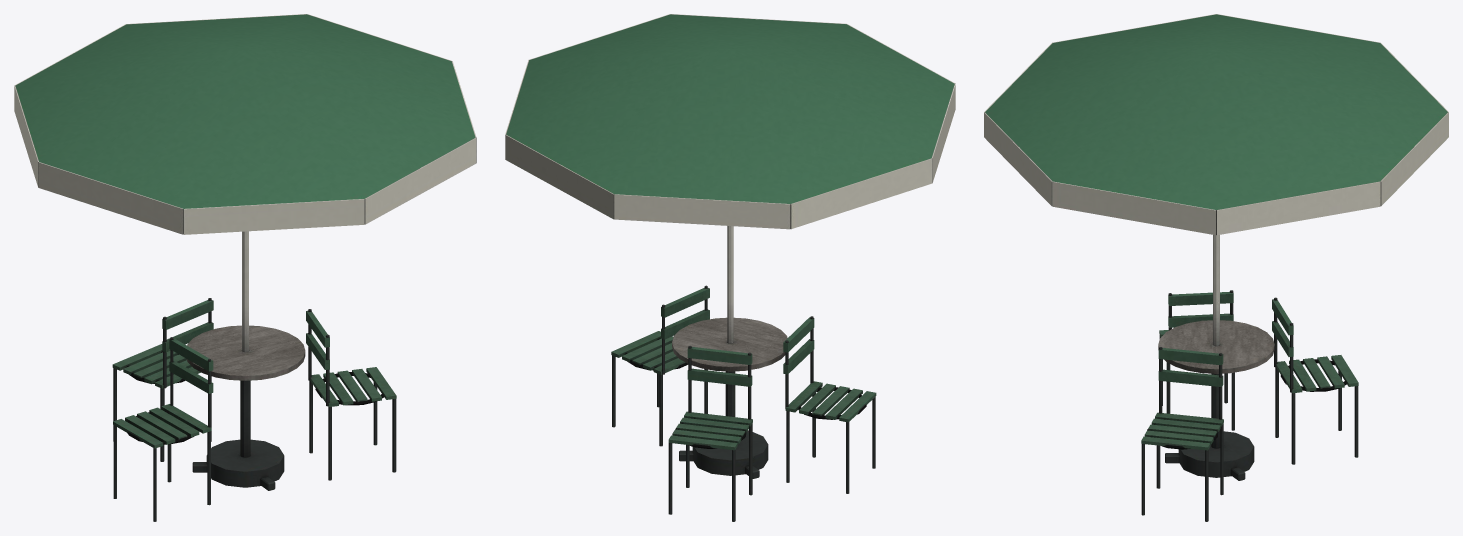
Rendered from cafe_set_green.glb.
3 renders of one model, left to right at view 1: azimuth 30°, elevation 25°; view 2: azimuth 150°, elevation 25°; view 3: azimuth 270°, elevation 25°, orthographic. The views are drawn at different scales.
Parts seen in each view (by area): view 1: cafe_set_green; view 2: cafe_set_green; view 3: cafe_set_green.
Boxes of the visible parts, bbox=[...] form: cafe_set_green: bbox=[14, 14, 476, 521]; cafe_set_green: bbox=[505, 14, 955, 521]; cafe_set_green: bbox=[984, 14, 1448, 521].
Bounding box in the file's own units: 2.71 × 2.62 × 2.71.
1 material, 1 textured.
